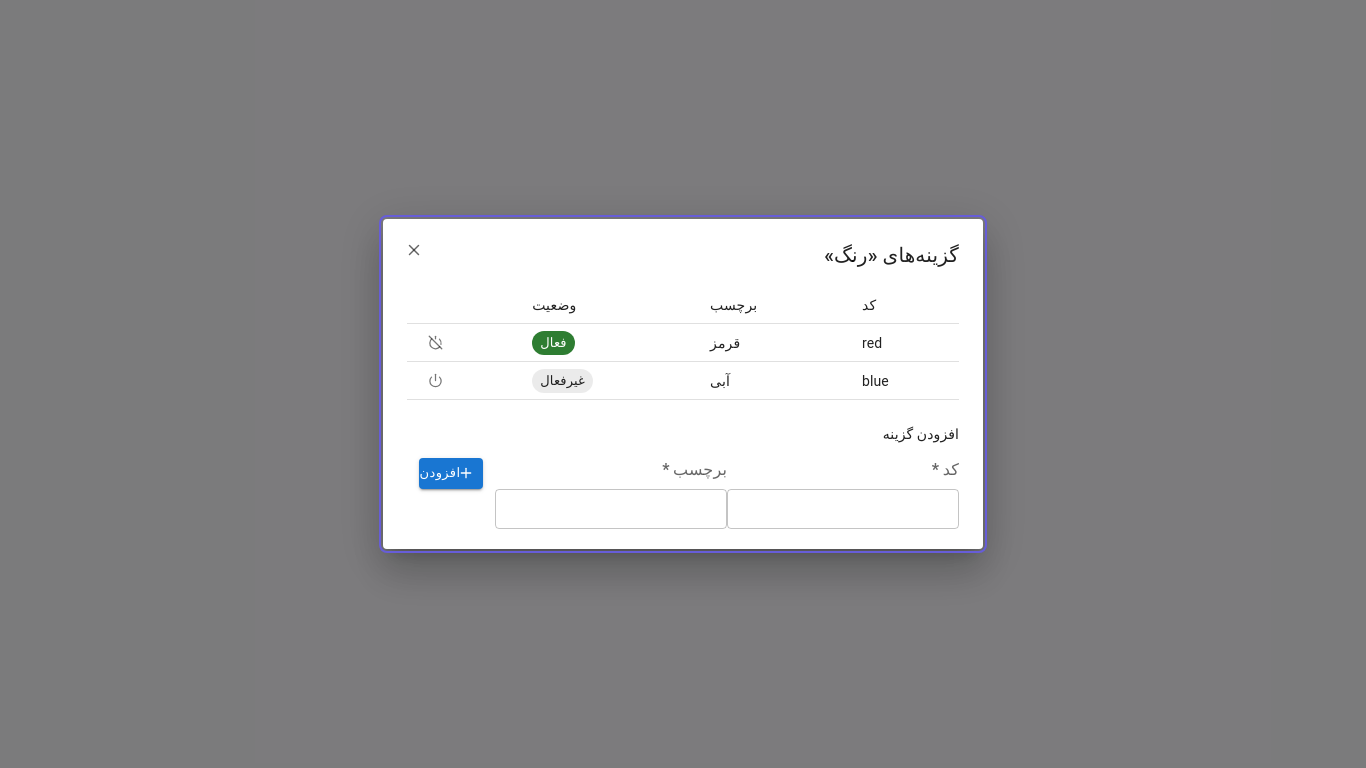
Test: AttributeOptionsDialog › creates an option and refreshes the list
Expected: the text "قرمز" is shown, [694, 324, 846, 362]
In the field labelled "کد *": (843, 509) [727, 489, 959, 529], type "GREEN"
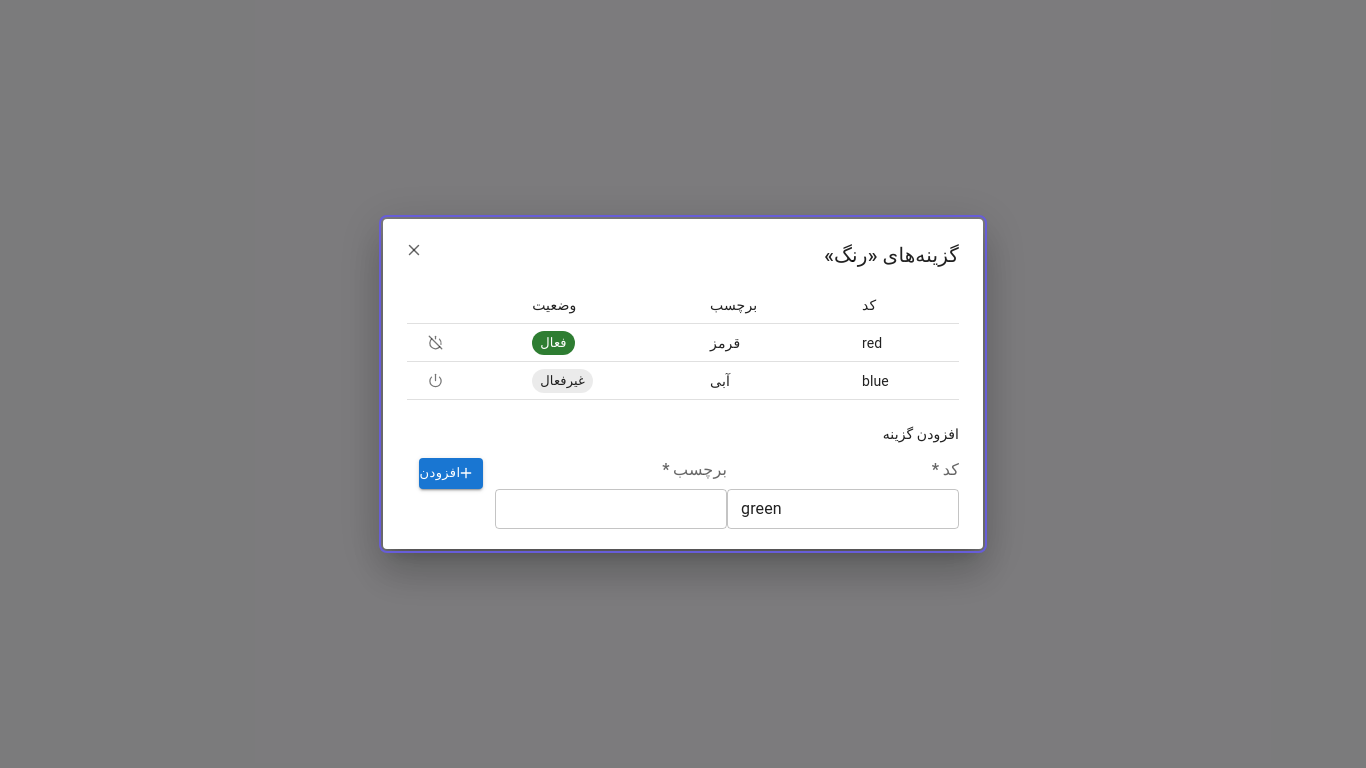
In the field labelled "برچسب *": (611, 509) [495, 489, 727, 529], type "سبز"
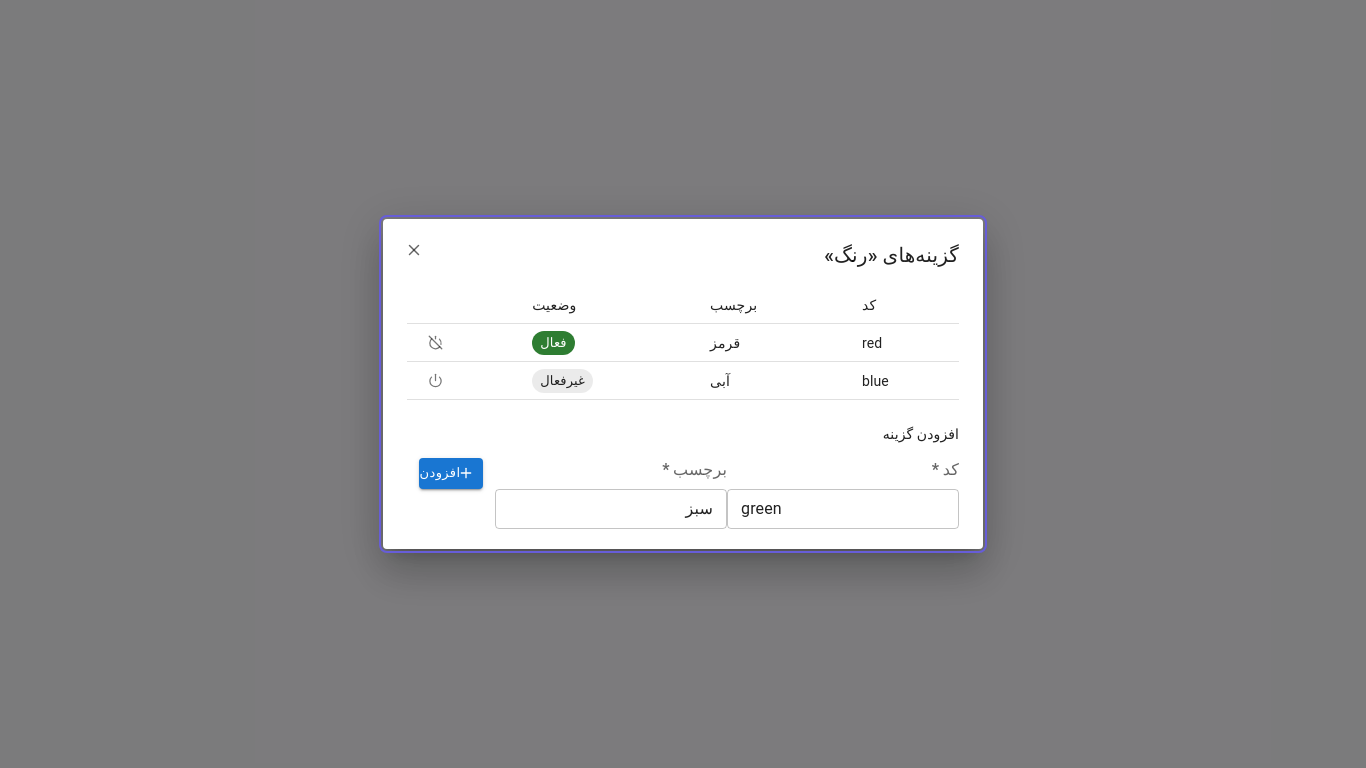
Click the button "افزودن": (451, 473) [419, 458, 483, 489]
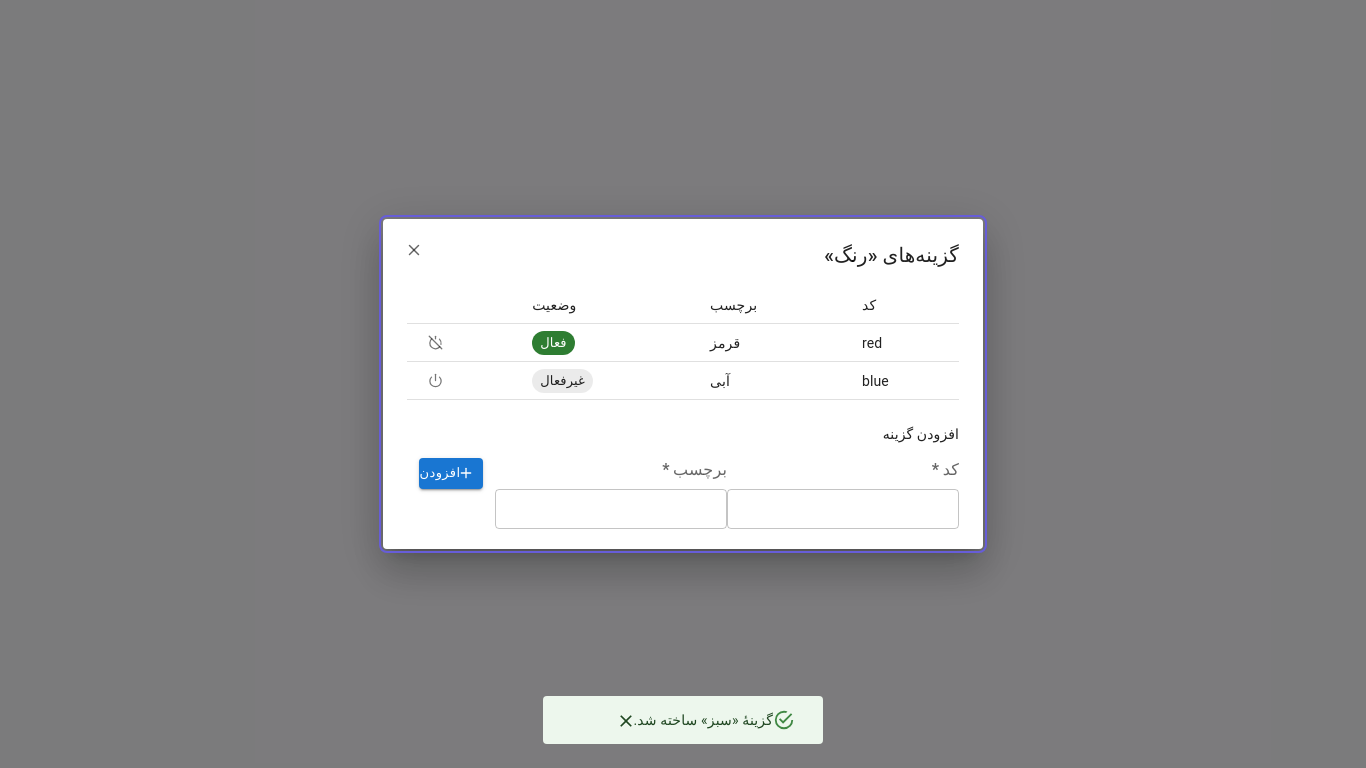
Expected: the text "گزینهٔ «سبز» ساخته شد." is shown, [634, 712, 773, 728]
